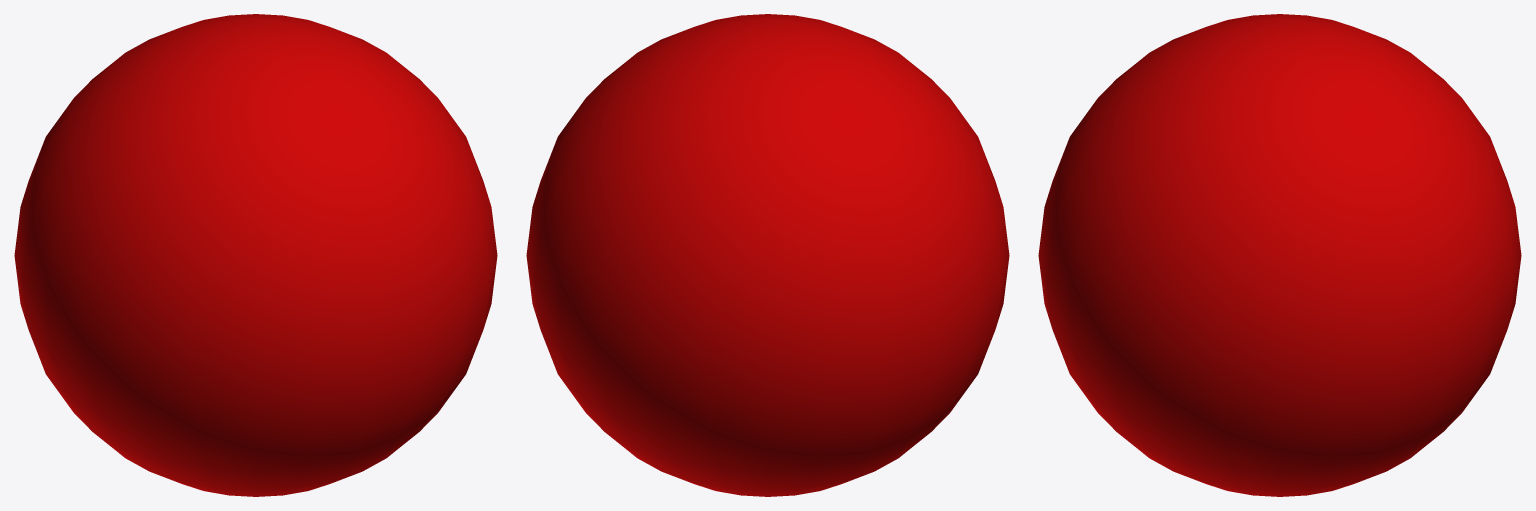
The model's file is Base_Ball.obj.
3 views of the same model, side by side, from view 1: azimuth 30°, elevation 25°; view 2: azimuth 150°, elevation 25°; view 3: azimuth 270°, elevation 25° (orthographic).
Visible parts, largest first — view 1: Sphere; view 2: Sphere; view 3: Sphere.
Boxes of the visible parts, x1=… form: Sphere: x1=14, y1=14, x2=497, y2=496; Sphere: x1=526, y1=14, x2=1009, y2=496; Sphere: x1=1038, y1=14, x2=1521, y2=496.
Bounding box in the file's own units: 2 × 2 × 2.
